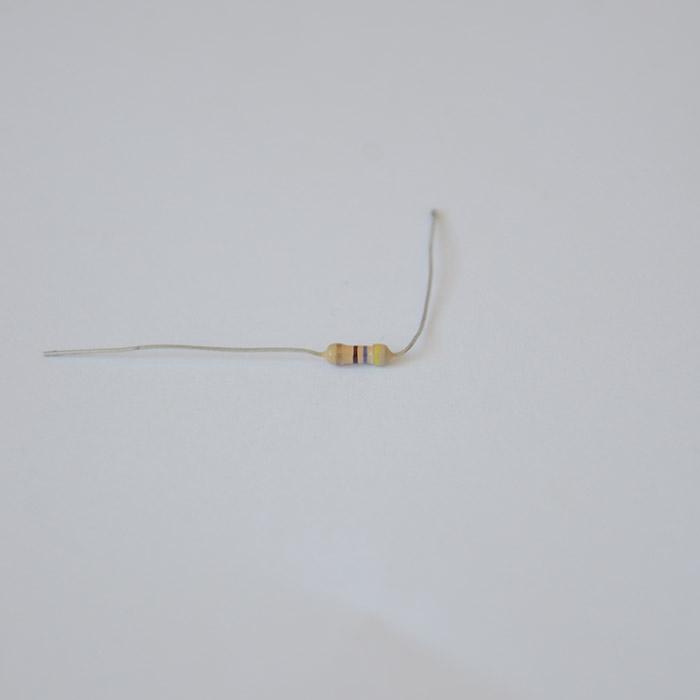resistor: (323, 339, 397, 374)
